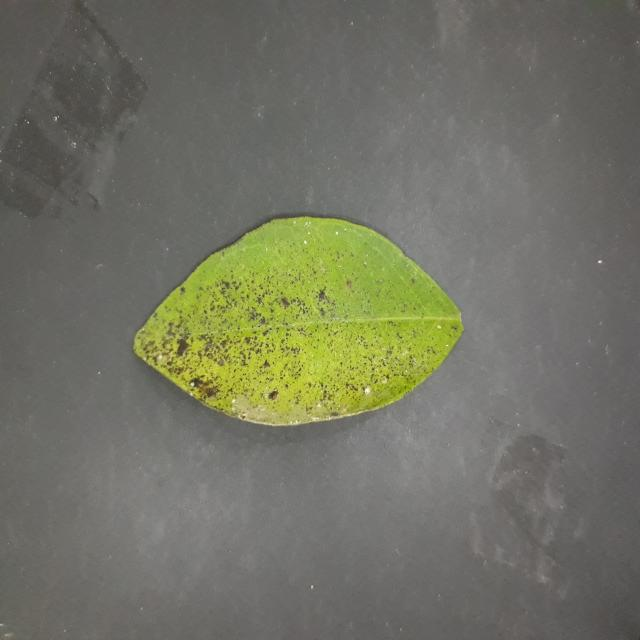greasy_spot: (134, 217, 463, 425)
